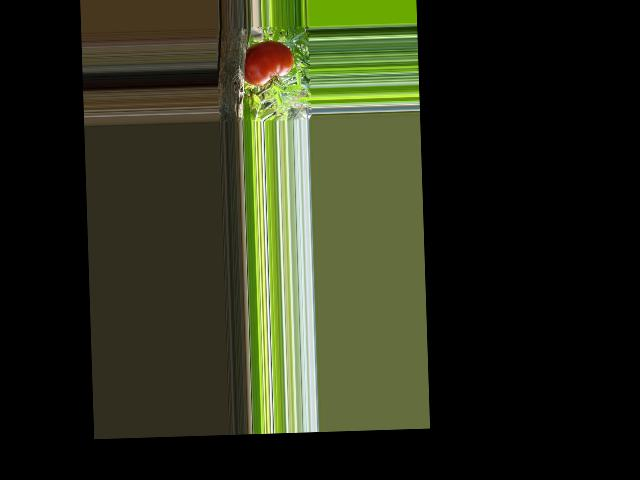tomato: (242, 40, 294, 86)
